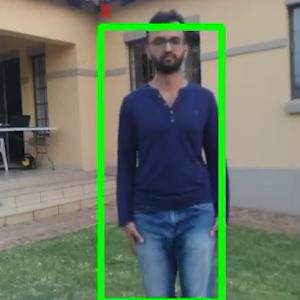follow: (114, 22, 220, 299)
